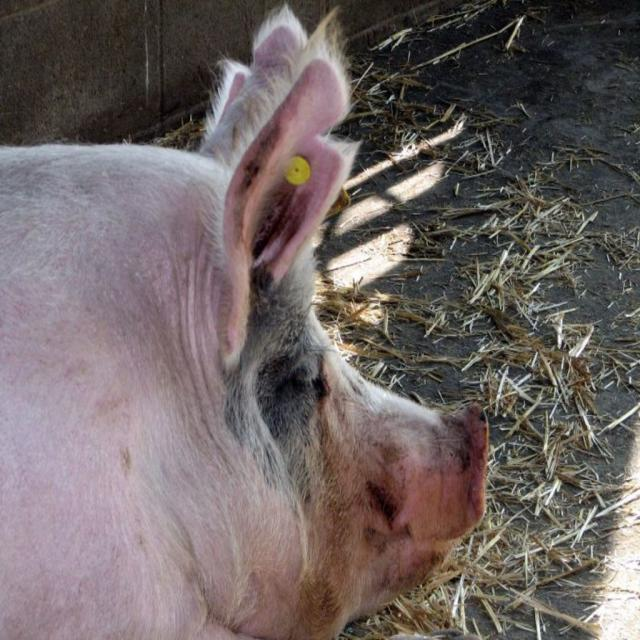Pig: (0, 5, 488, 639)
